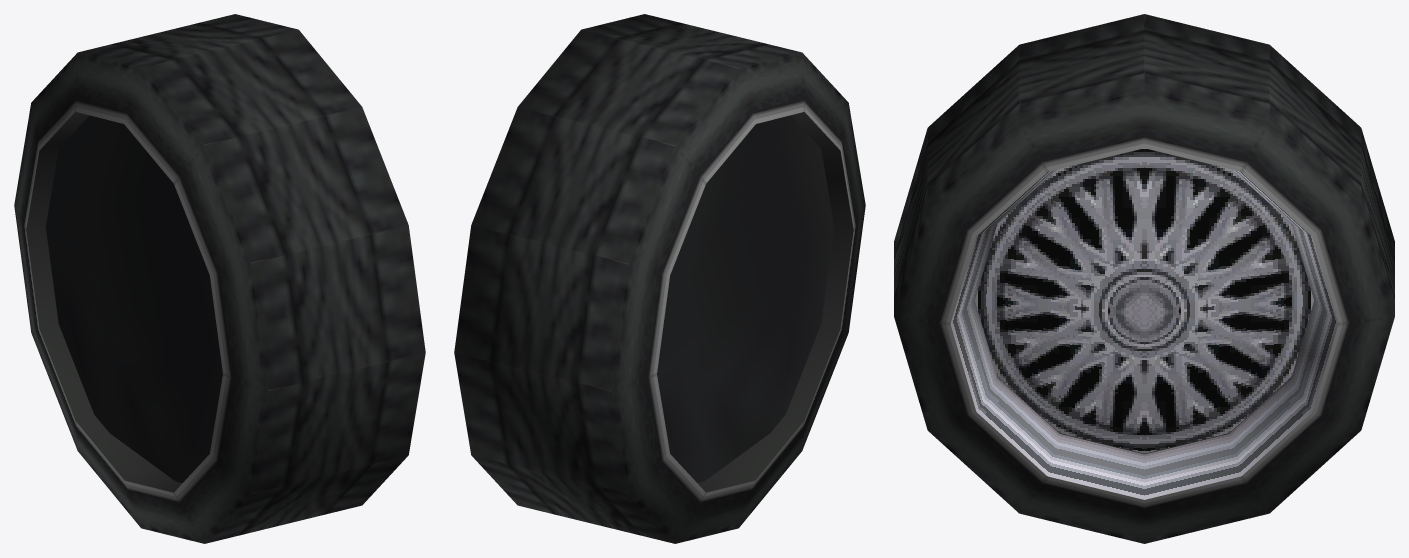
File: DefaultWheel_phoenix.glb
The picture shows the model from 3 angles, left to right: view 1: azimuth 30°, elevation 25°; view 2: azimuth 150°, elevation 25°; view 3: azimuth 270°, elevation 25°; orthographic projection.
Visible parts, largest first — view 1: wheel; view 2: wheel; view 3: wheel.
Part boxes in pixels (x1,y1,x2,y2): wheel: (14, 14, 425, 543); wheel: (454, 14, 865, 543); wheel: (894, 14, 1394, 543).
Bounding box in the file's own units: 0.3081 × 0.7155 × 0.7155.
Materials: 3 (3 with a texture image).
